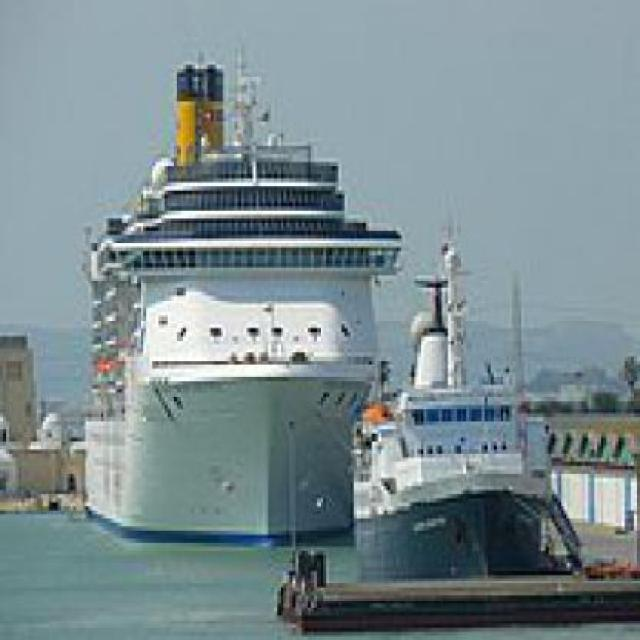cruise: (59, 29, 419, 556)
